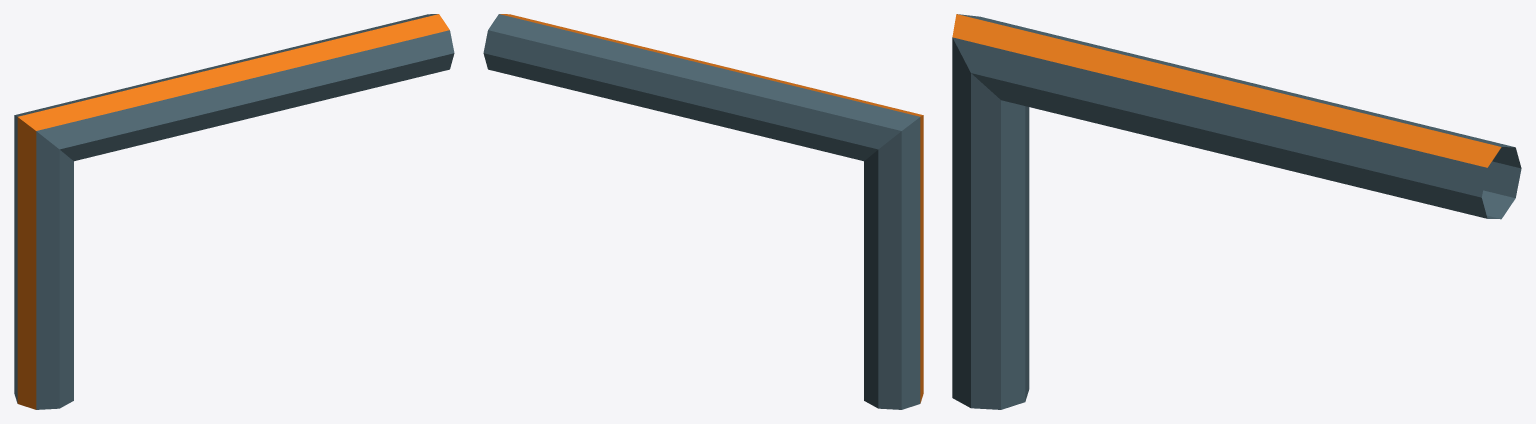
The model's file is Pipe 7.fbx.
The picture shows the model from 3 angles, left to right: view 1: azimuth 30°, elevation 25°; view 2: azimuth 150°, elevation 25°; view 3: azimuth 330°, elevation 25°; orthographic projection. The views are drawn at different scales.
Visible parts, largest first — view 1: Cylinder.015; view 2: Cylinder.015; view 3: Cylinder.015.
Part boxes in pixels (box(x1,y1,x2,y2)): Cylinder.015: box(14, 14, 454, 409); Cylinder.015: box(483, 14, 923, 409); Cylinder.015: box(952, 14, 1521, 409).
Size of the model in its own units: 0.5923 by 0.3854 by 0.0749.
